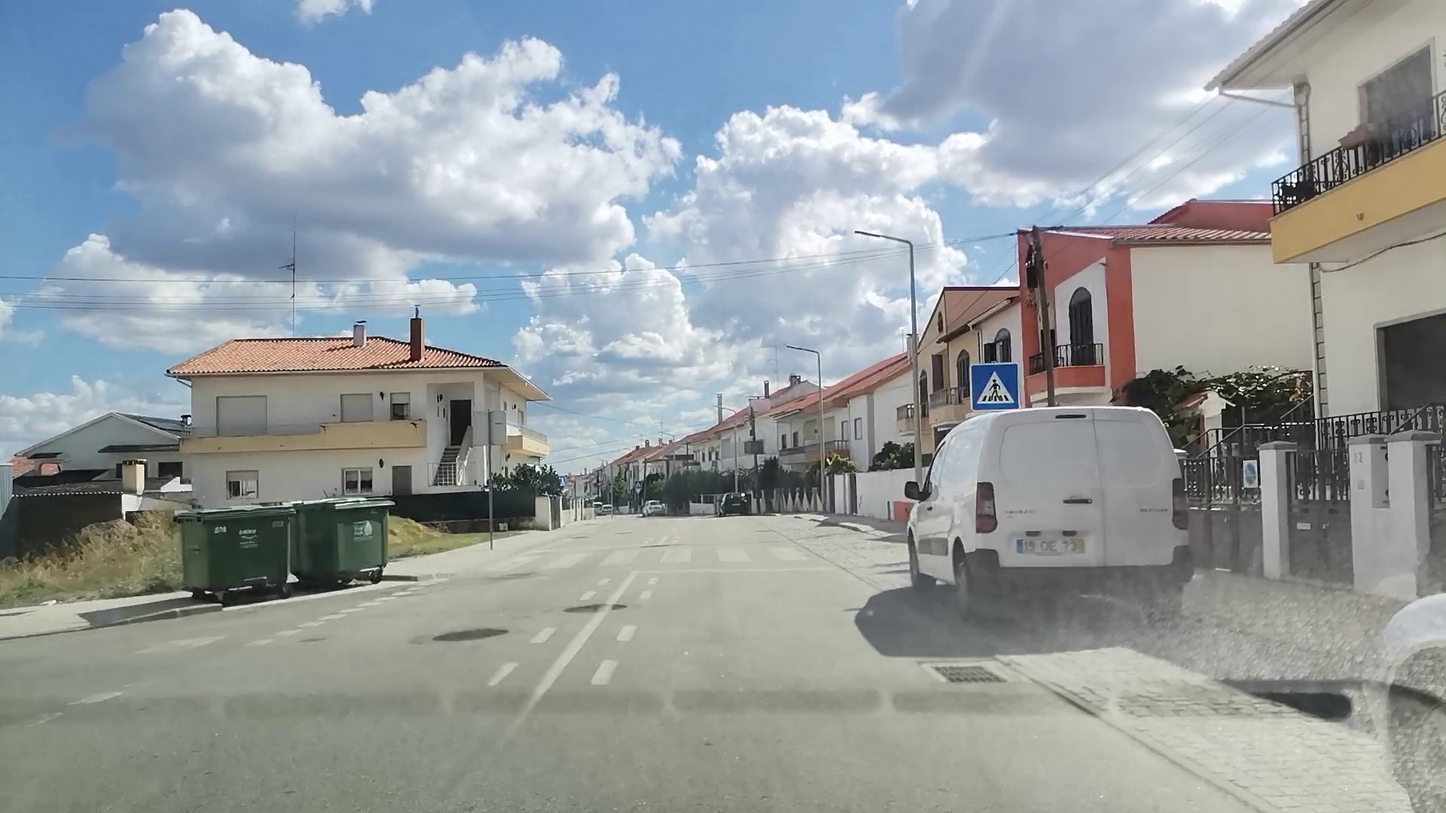Stairs: (483, 543, 818, 570)
